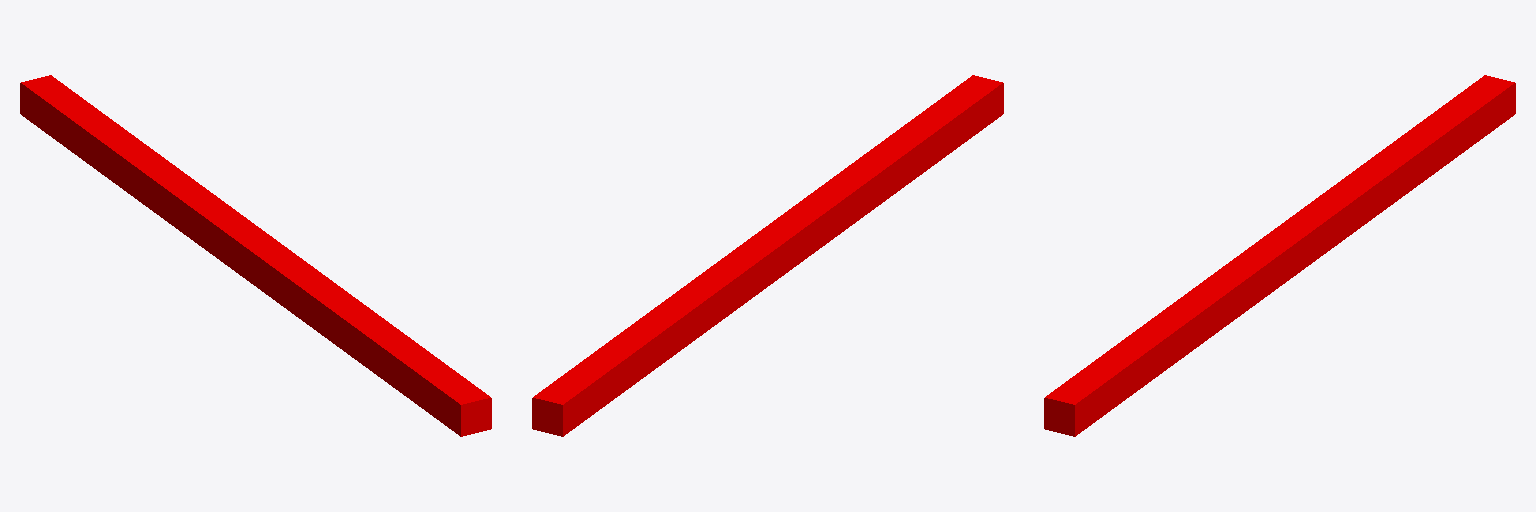
robot.urdf — wallb4:
<?xml version="1.0"?>
<robot name="wallb4">
	<link name="base">
	<inertial>
        	 <origin xyz="0 0 0" rpy="0 0 0"/>
        	 <mass value="2"/>
        	 <inertia ixx="0.000683333"  ixy="0"  ixz="0" iyy="0.000683333" iyz="0" izz="0.000683333" />
       </inertial>
		<visual>
			<origin xyz="0 0 0" rpy="0 0 0" />
			<geometry>
				<box size="0.008 0.2 0.008" />
			</geometry>
			<material>
				<color rgba="1 0 0 1" />
			</material>
		</visual>
	<collision>
            <origin xyz="0 0 0" rpy="0 0 0" />
	    <material>
				<color rgba="1 0 0 1" />
	    </material>
            <geometry>
			<box size="0.008 0.2 0.008" />
            </geometry>
        </collision>
	</link>
</robot>

--- Render facts (derived) ---
3 views of the same robot in one strip: view 1: azimuth 30°, elevation 25°; view 2: azimuth 150°, elevation 25°; view 3: azimuth 330°, elevation 25° (orthographic).
Robot: wallb4 — 1 links, 0 joints (none); root link base; default pose: every joint at zero.
Visible links, largest first — view 1: base; view 2: base; view 3: base.
Boxes of the visible links, x1,y1,x2,y2 form: base: (20, 75, 491, 436); base: (532, 75, 1003, 436); base: (1044, 75, 1515, 436).
Bounding box of the posed robot: 0.008 × 0.2 × 0.008 m (x, y, z).
Geometry: primitives only (box / cylinder / sphere), no mesh files.
